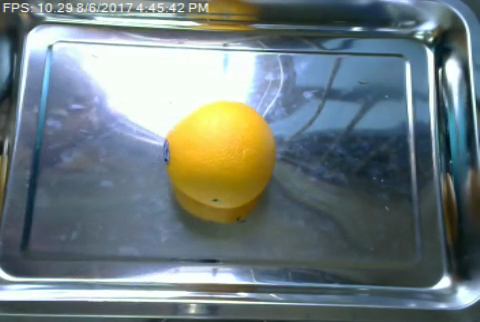Orange: (163, 100, 277, 208)
